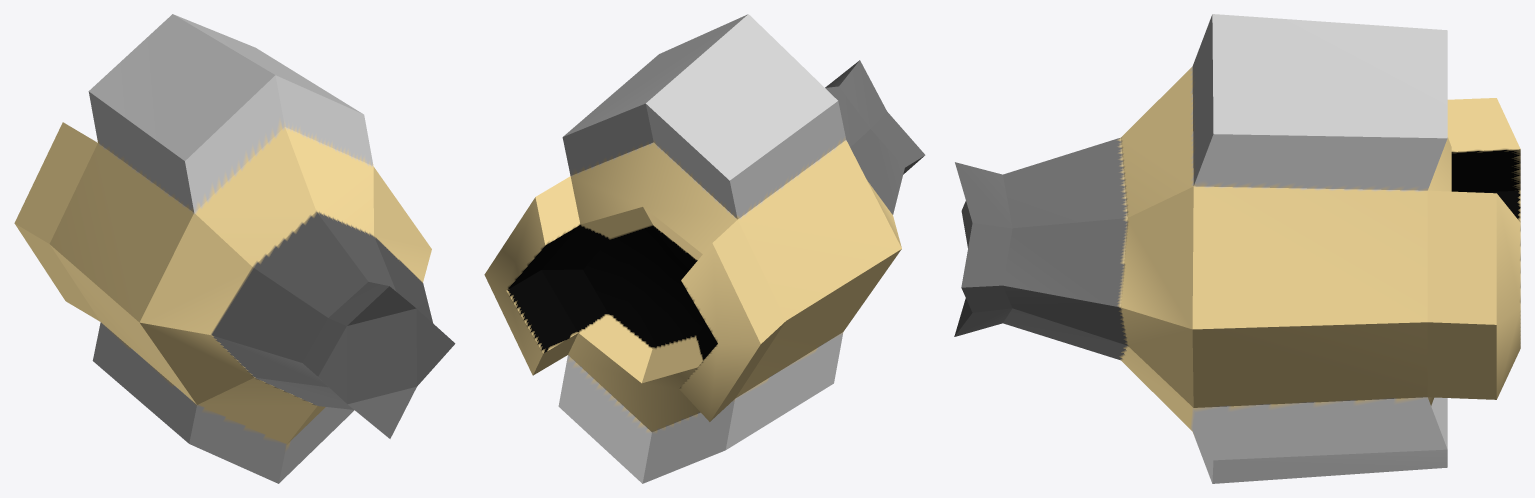
Rendered from turbine 2.FBX.
The picture shows the model from 3 angles, left to right: view 1: azimuth 30°, elevation 25°; view 2: azimuth 150°, elevation 25°; view 3: azimuth 270°, elevation 25°; orthographic projection. The views are drawn at different scales.
Visible parts, largest first — view 1: Box001; view 2: Box001; view 3: Box001.
Part boxes in pixels (box(x1,y1,x2,y2)): Box001: box(14, 14, 455, 483); Box001: box(484, 14, 925, 483); Box001: box(954, 14, 1520, 483).
Size of the model in its own units: 22.28 by 29.8 by 32.69.
Materials: 1 (1 with a texture image).
